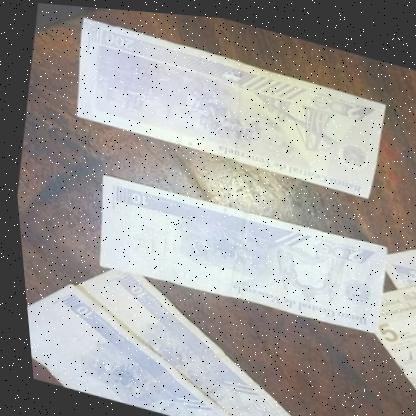five-front-vef: (343, 258, 416, 399)
ten-back-vef: (78, 167, 391, 336), (39, 253, 326, 416), (19, 268, 270, 416), (371, 217, 416, 311)
two_hundred-back-vef: (60, 14, 393, 196)
